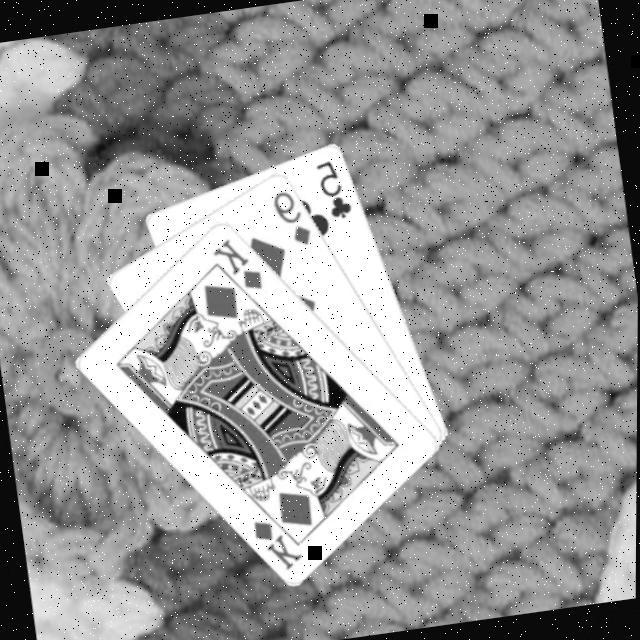5C: (310, 153, 355, 222)
9D: (266, 182, 315, 251)
KD: (206, 230, 266, 297), (248, 510, 306, 576)
